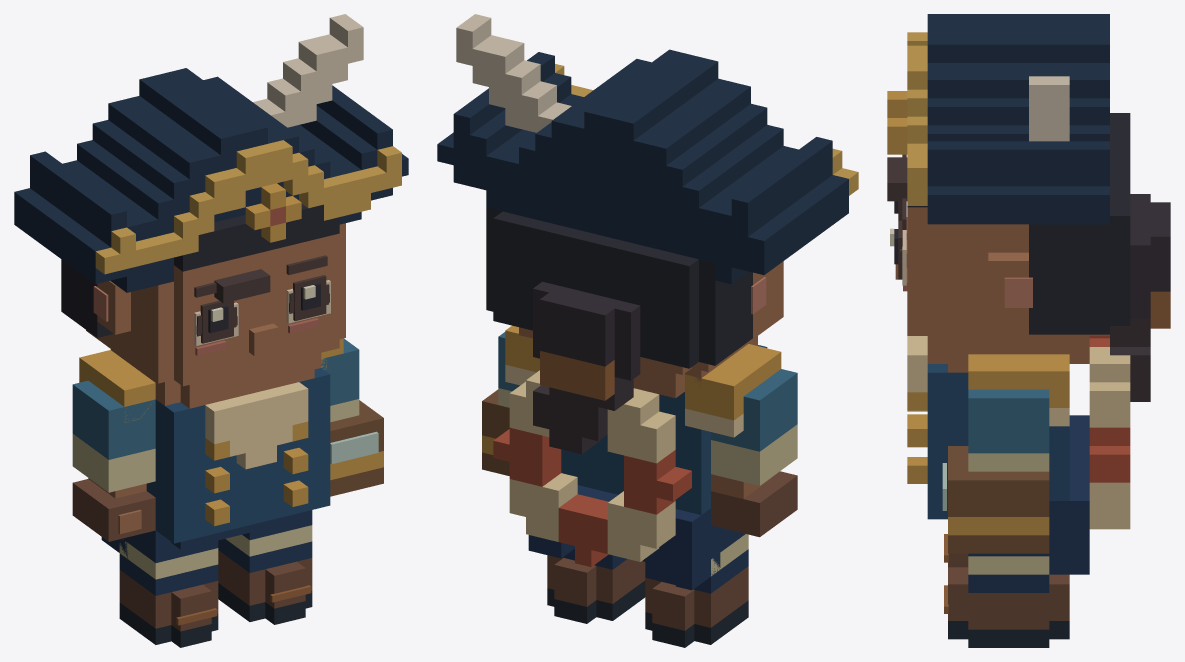
The model's file is human_tide.glb.
3 views of the same model, side by side, from view 1: azimuth 30°, elevation 25°; view 2: azimuth 150°, elevation 25°; view 3: azimuth 270°, elevation 25° (orthographic). The views are drawn at different scales.
Visible parts, largest first — view 1: head, body, armB, footB, footA, armA, face_open, face_happy; view 2: head, body, armB, footB, footA, armA; view 3: head, body, armA, footA, face_open, footB.
Boxes of the visible parts, x1,y1,x2,y2 form: head: (14,14,408,408); body: (79,338,343,558); armB: (72,380,155,541); footB: (119,533,218,647); footA: (218,510,312,624); armA: (321,338,383,496); face_open: (194,275,330,345); face_happy: (194,255,329,355); head: (437,14,858,454); body: (493,325,781,590); armB: (711,369,797,537); footB: (645,525,748,647); footA: (547,549,645,623); armA: (482,332,519,475); head: (887,14,1170,401); body: (907,336,1130,574); armA: (942,389,1049,553); footA: (944,553,1069,647); face_open: (890,201,906,285); footB: (944,534,968,567).
Bounding box in the file's own units: 0.64 × 1.06 × 0.448.
